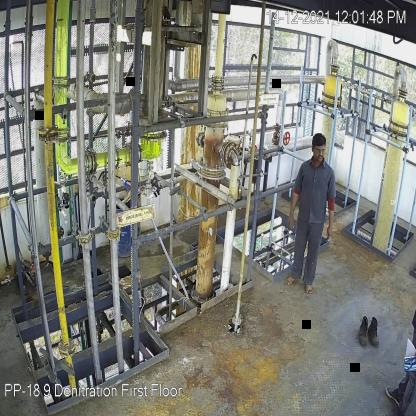no_shoes: (302, 283, 313, 297), (283, 276, 300, 285)
shoes: (357, 314, 372, 348), (368, 317, 380, 346)
